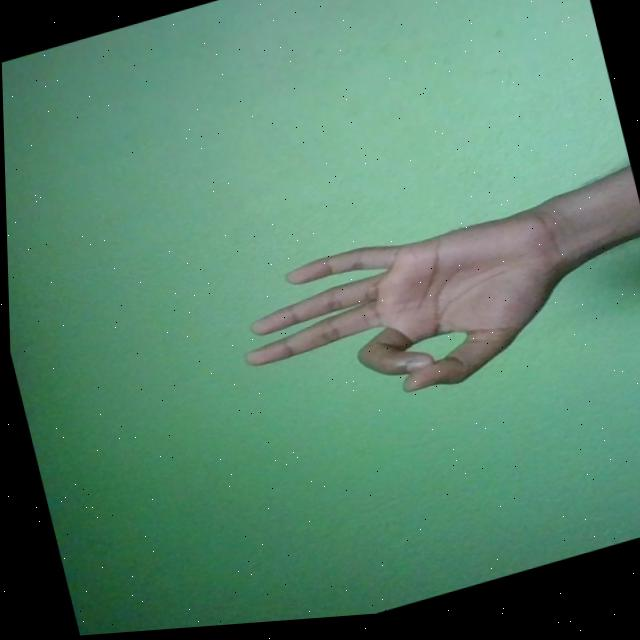Ok: (222, 195, 591, 443)
